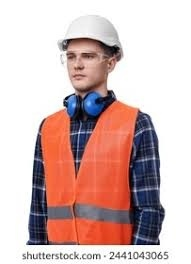safety_goggles: (54, 49, 119, 71)
